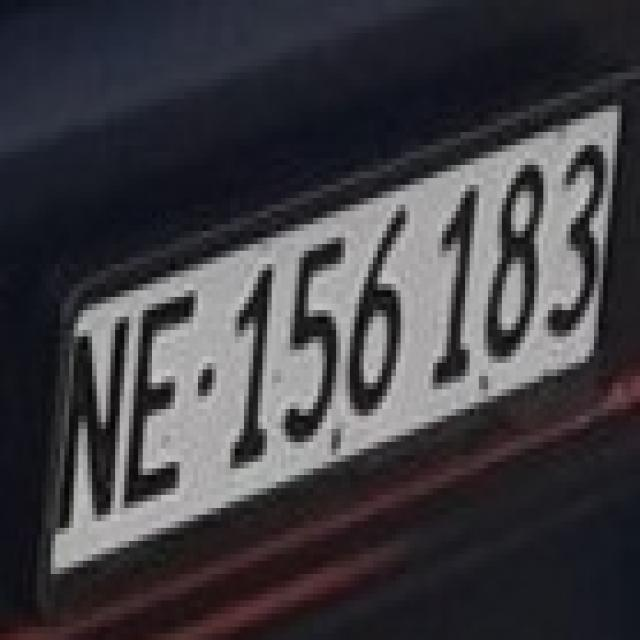1: (414, 152, 484, 382), (207, 237, 276, 468)
3: (534, 126, 612, 337)
5: (272, 218, 346, 442)
6: (340, 178, 414, 409)
8: (474, 138, 548, 356)
E: (110, 271, 202, 508)
N: (42, 290, 134, 528)
